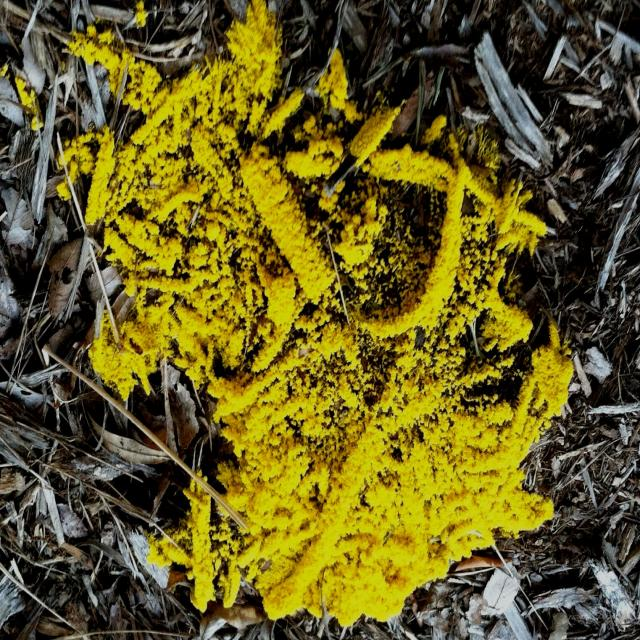Dog_vomit_slime_mold: (33, 0, 584, 640)
